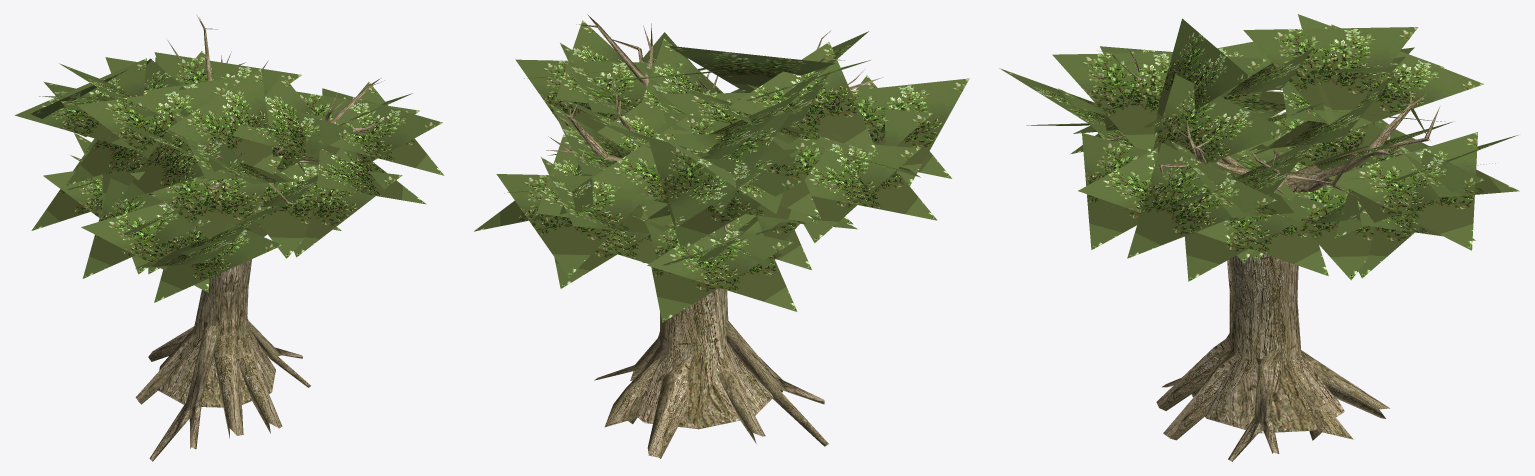
File: fig_1.glb
3 renders of one model, left to right at view 1: azimuth 30°, elevation 25°; view 2: azimuth 150°, elevation 25°; view 3: azimuth 270°, elevation 25°, orthographic. The views are drawn at different scales.
Parts seen in each view (by area): view 1: fig_1; view 2: fig_1; view 3: fig_1.
Boxes of the visible parts, x1=… form: fig_1: x1=15, y1=16, x2=444, y2=461; fig_1: x1=474, y1=14, x2=969, y2=458; fig_1: x1=999, y1=14, x2=1519, y2=461.
Bounding box in the file's own units: 9.23 × 8.56 × 10.36.
Materials: 2 (2 with a texture image).
